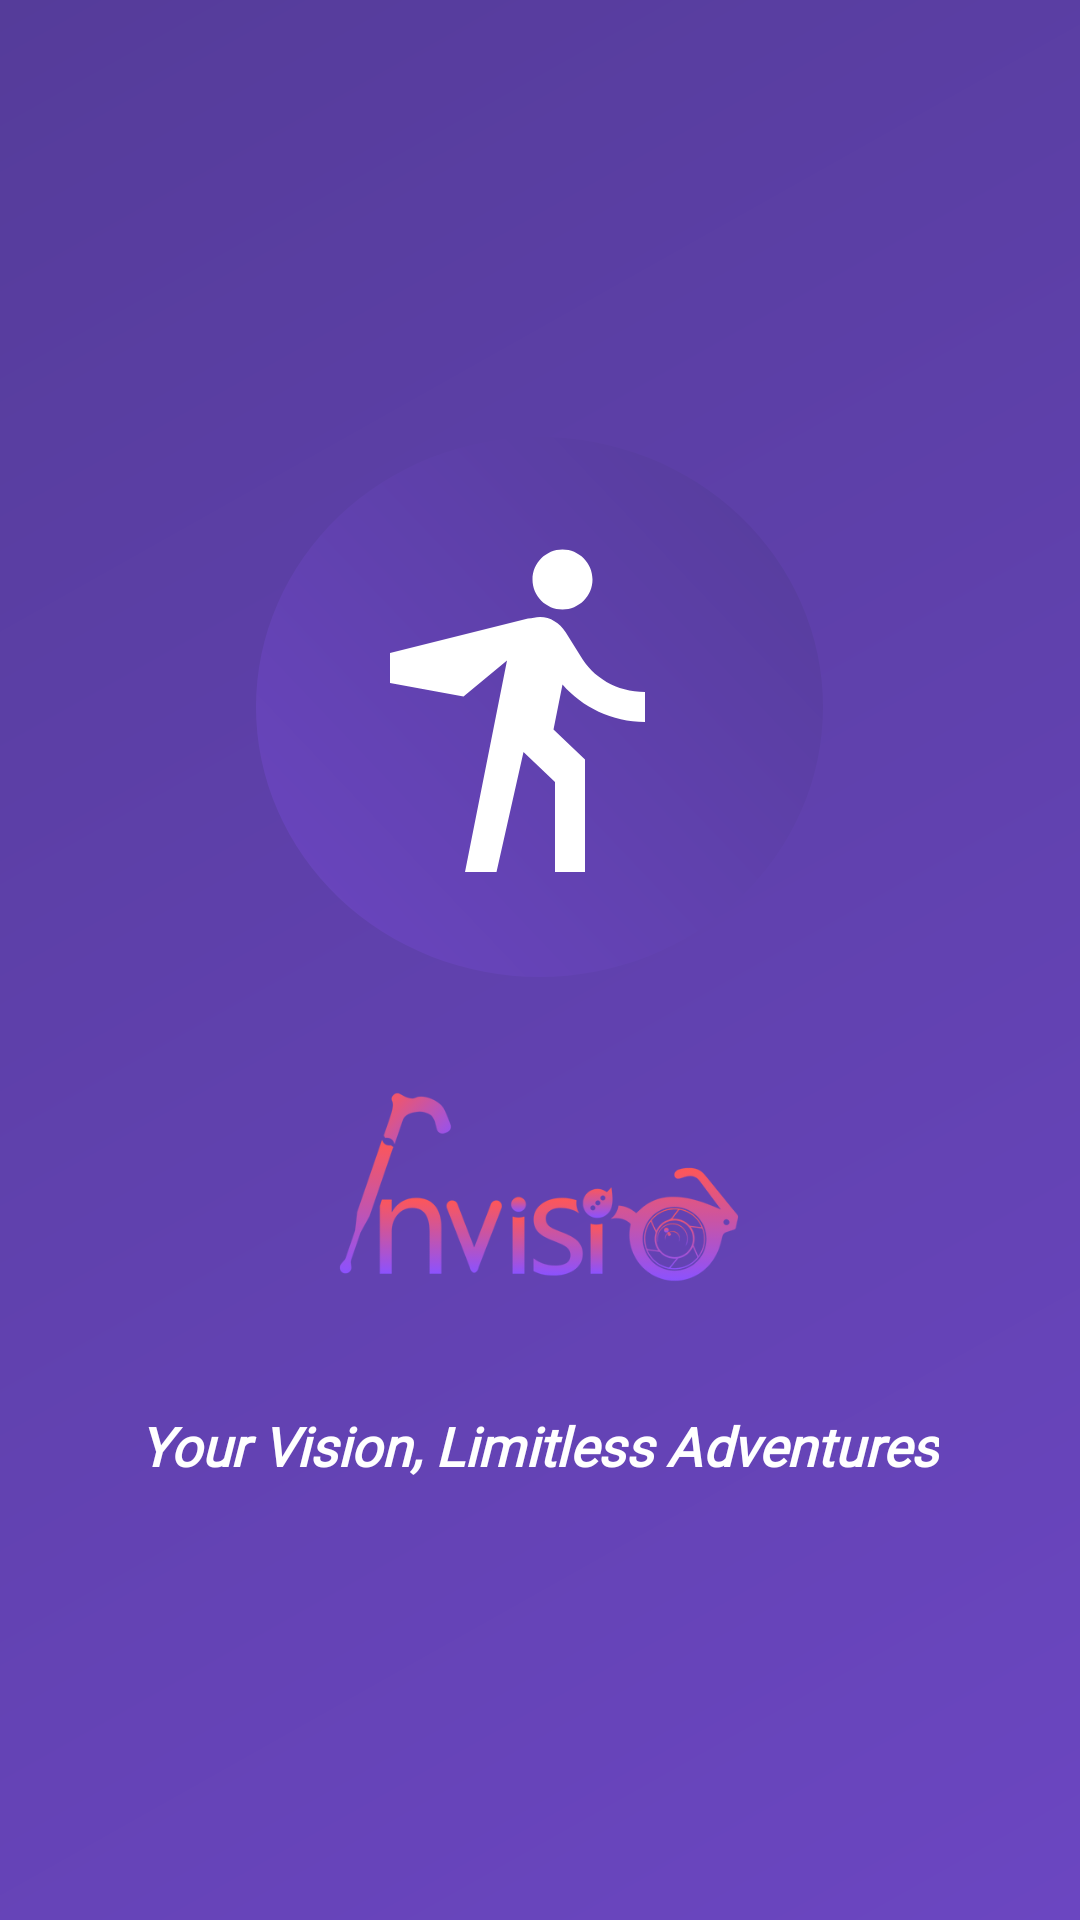

Point at icon controls on the screen. Image size 1080w x 1920h, points as (x,y).
person walking: (517,710)
